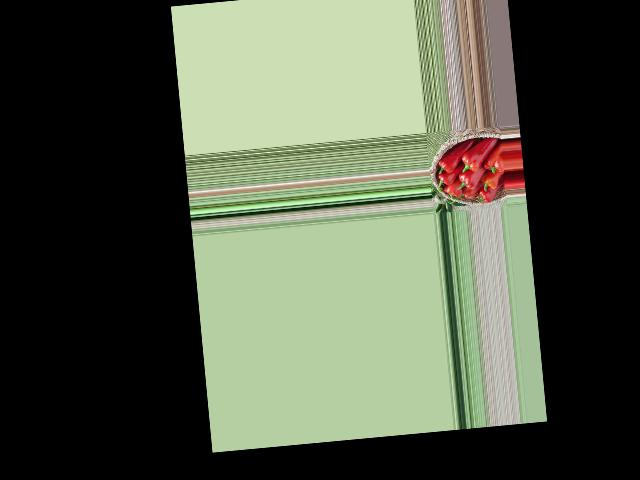bell_pepper: (434, 170, 457, 188)
